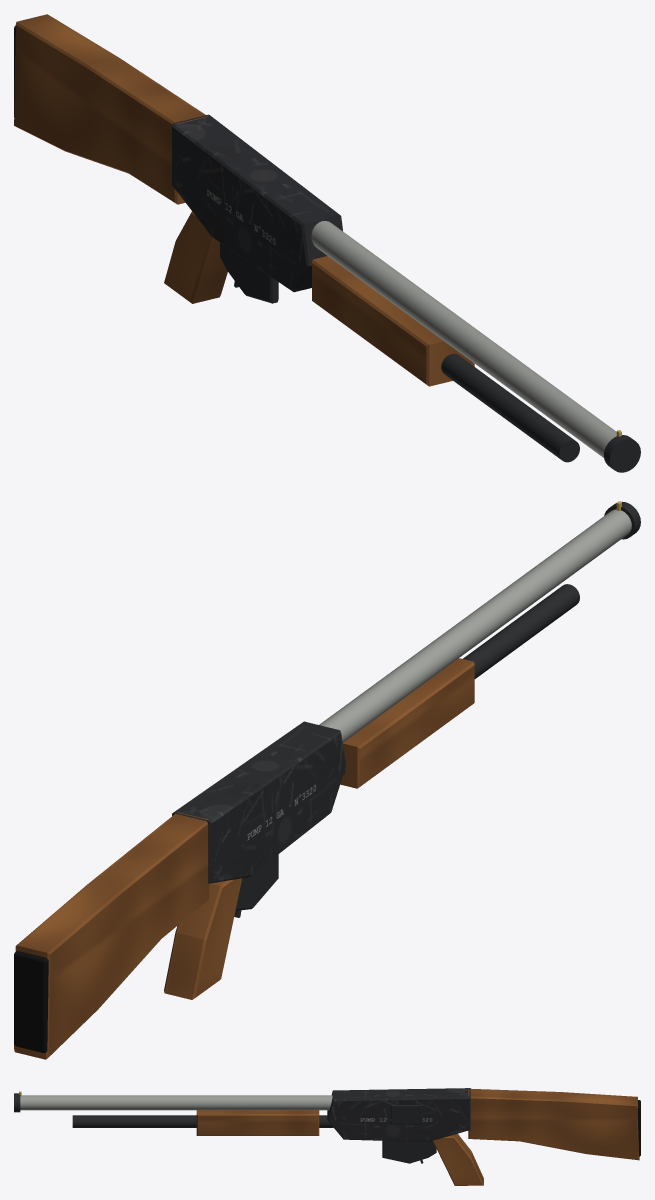
Rendered from 03-fusil-a-pompe.glb.
The picture shows the model from 3 angles, top to bottom: view 1: azimuth 30°, elevation 25°; view 2: azimuth 150°, elevation 25°; view 3: azimuth 270°, elevation 25°; orthographic projection. The views are drawn at different scales.
Bounding box in the file's own units: 0.0564 × 0.1912 × 1.2.
Materials: 8 (3 with a texture image).
